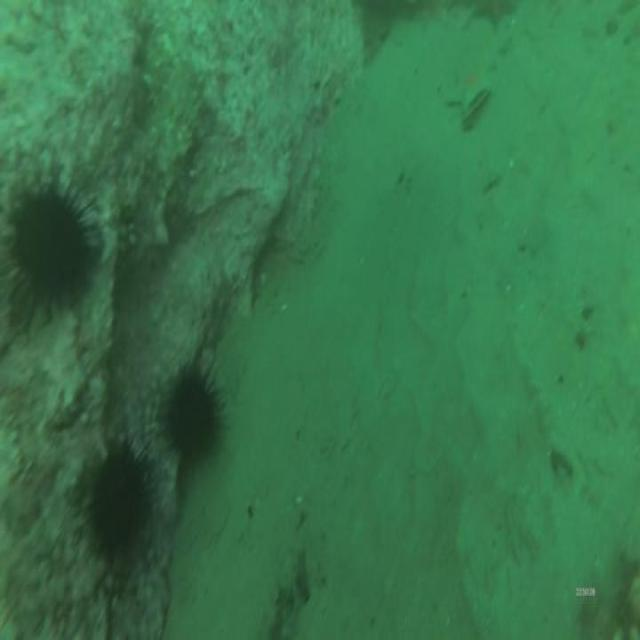echinus: (0, 165, 104, 322), (76, 433, 158, 577), (156, 348, 228, 471)
holothurian: (578, 565, 640, 640)
starfish: (438, 49, 500, 126)
